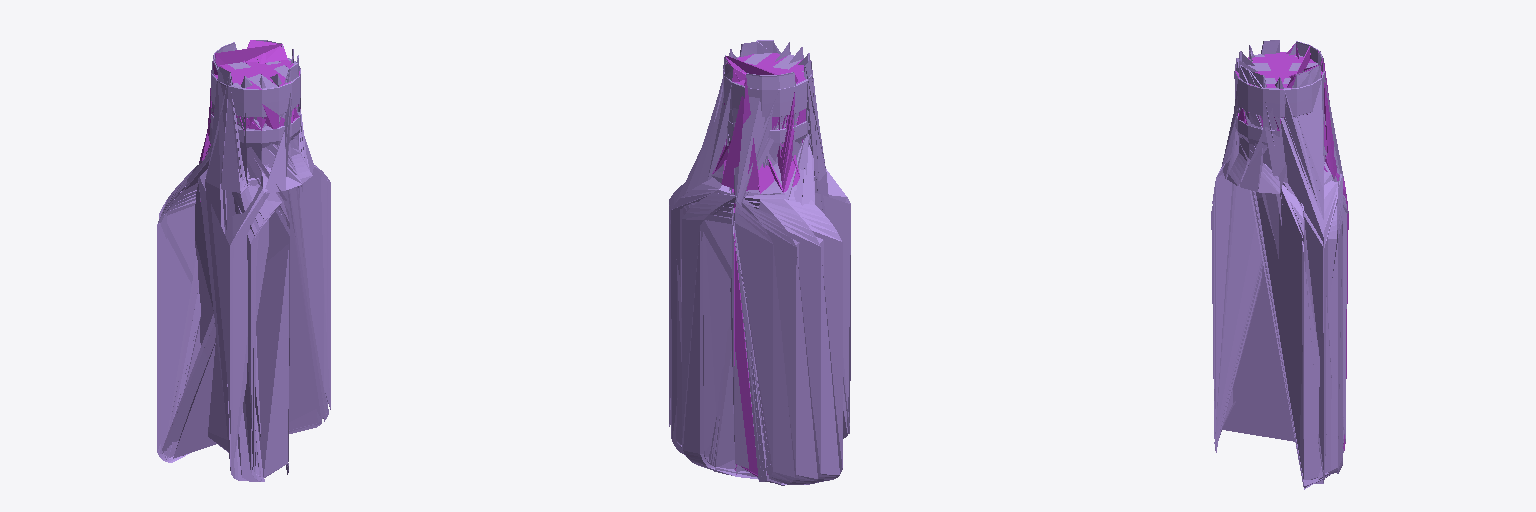
File: bottle4.obj
The picture shows the model from 3 angles: view 1: azimuth 30°, elevation 25°; view 2: azimuth 150°, elevation 25°; view 3: azimuth 270°, elevation 25°; orthographic projection.
Parts seen in each view (by area): view 1: bottle001, cap001, rings001; view 2: bottle001, cap001, rings001; view 3: bottle001, cap001, rings001.
Part boxes in pixels (left/top/right/bottom): bottle001: left=157, top=40, right=330, bottom=481; cap001: left=199, top=40, right=300, bottom=201; rings001: left=211, top=58, right=300, bottom=130; bottle001: left=669, top=40, right=850, bottom=485; cap001: left=712, top=53, right=805, bottom=476; rings001: left=723, top=54, right=812, bottom=142; bottle001: left=1211, top=40, right=1348, bottom=489; cap001: left=1235, top=44, right=1348, bottom=450; rings001: left=1234, top=52, right=1324, bottom=135.
Bounding box in the file's own units: 3.15 × 6.86 × 2.16.